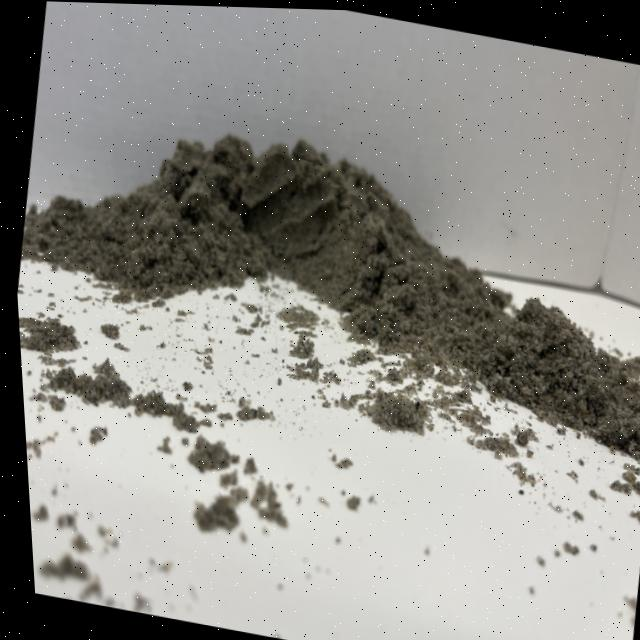sand: (13, 74, 607, 389)
